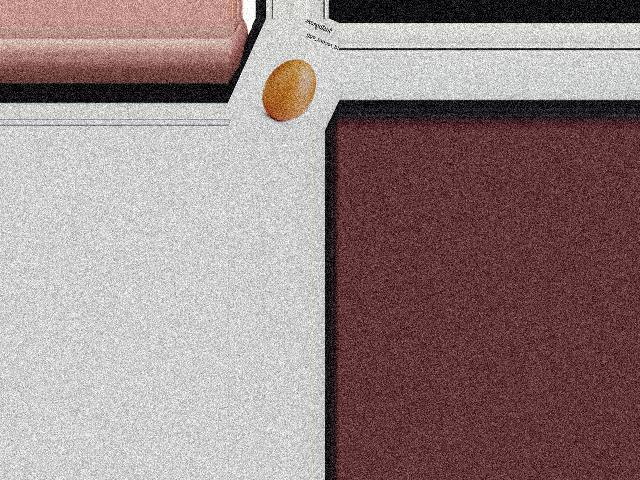egg: (262, 59, 315, 121)
